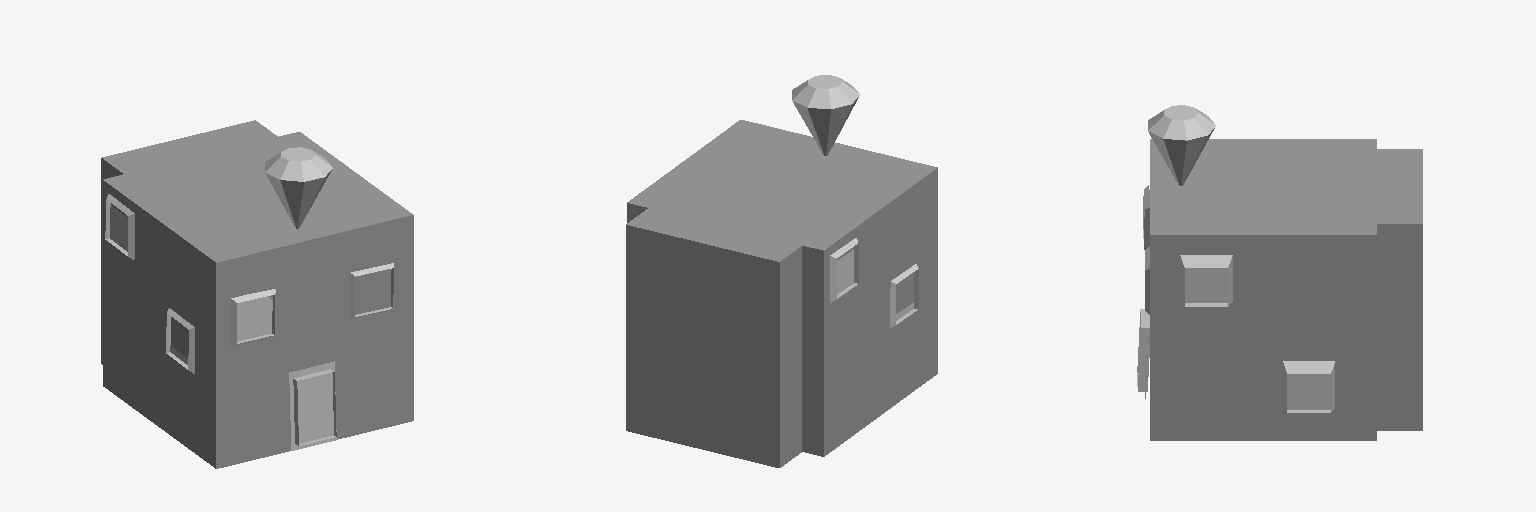
The model's file is Diamond.obj.
The picture shows the model from 3 angles: view 1: azimuth 30°, elevation 25°; view 2: azimuth 150°, elevation 25°; view 3: azimuth 270°, elevation 25°; orthographic projection.
Visible parts, largest first — view 1: Cube, Плоскость.001, Конус_Конус.002, Плоскость.007, Плоскость.005, Плоскость.006, Плоскость.008; view 2: Cube, Конус_Конус.002, Плоскость.005, Плоскость.006; view 3: Cube, Конус_Конус.002, Плоскость.003, Плоскость.004, Плоскость.001.
Boxes of the visible parts, box(x1,y1,x2,y2) form: Cube: box(101, 120, 413, 468); Плоскость.001: box(289, 361, 336, 450); Конус_Конус.002: box(265, 147, 332, 228); Плоскость.007: box(230, 289, 275, 346); Плоскость.005: box(105, 194, 134, 259); Плоскость.006: box(166, 308, 194, 373); Плоскость.008: box(349, 263, 393, 319); Cube: box(626, 120, 937, 467); Конус_Конус.002: box(792, 75, 859, 155); Плоскость.005: box(830, 238, 858, 302); Плоскость.006: box(890, 264, 918, 328); Cube: box(1150, 139, 1422, 440); Конус_Конус.002: box(1148, 105, 1215, 185); Плоскость.003: box(1180, 255, 1232, 306); Плоскость.004: box(1283, 361, 1334, 412); Плоскость.001: box(1137, 309, 1149, 398).
Size of the model in its own units: 7.16 by 8.74 by 8.08.